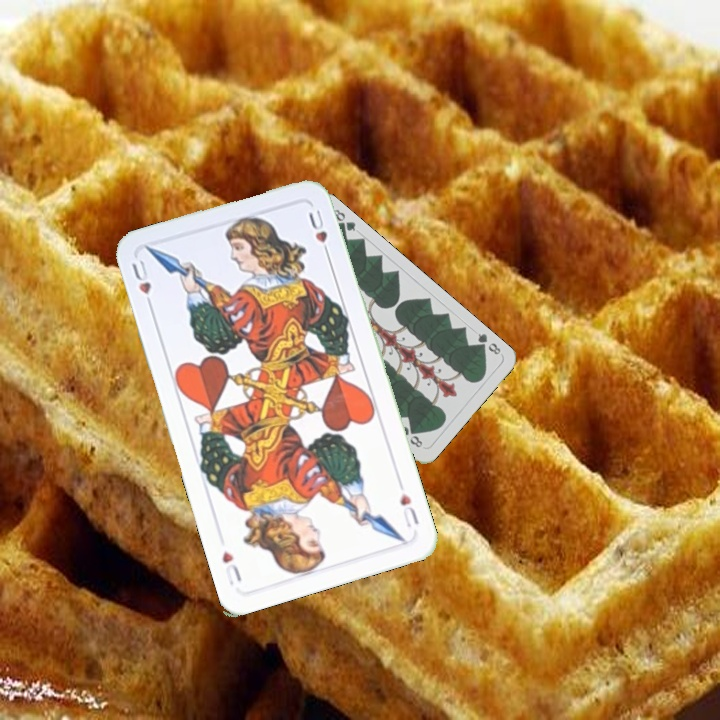G8: (472, 329, 503, 357)
HU: (128, 256, 156, 313), (396, 489, 422, 531)
